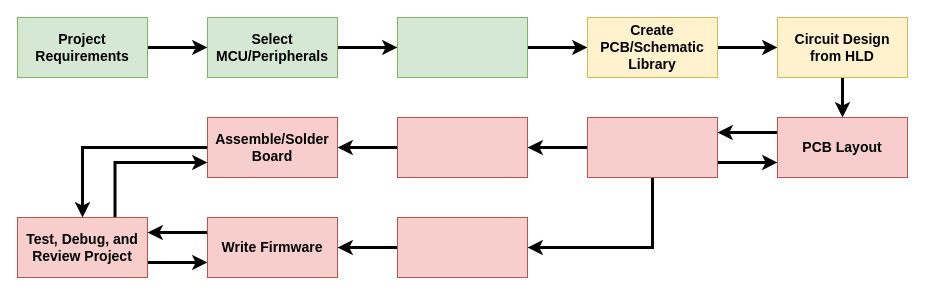
This 925x295 diagram has some shape labels left out. The shapes that lost their labels are listed below. From the top down, each one's centre as x and y in pixels, then its label:
the point at 462,47: High-Level Circuit Diagram
the point at 462,147: Generate Gerbers and Manufature PCB
the point at 652,147: Design Review (Self)
the point at 462,247: Write Firmware Tests
